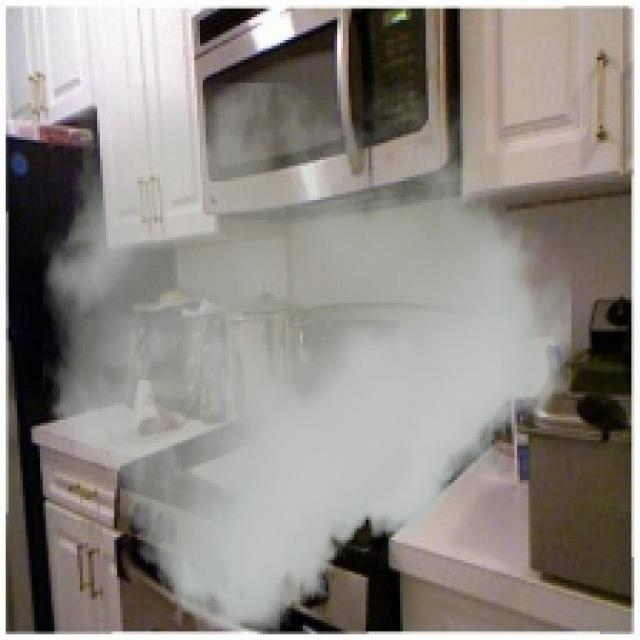smoke: (43, 83, 571, 634)
